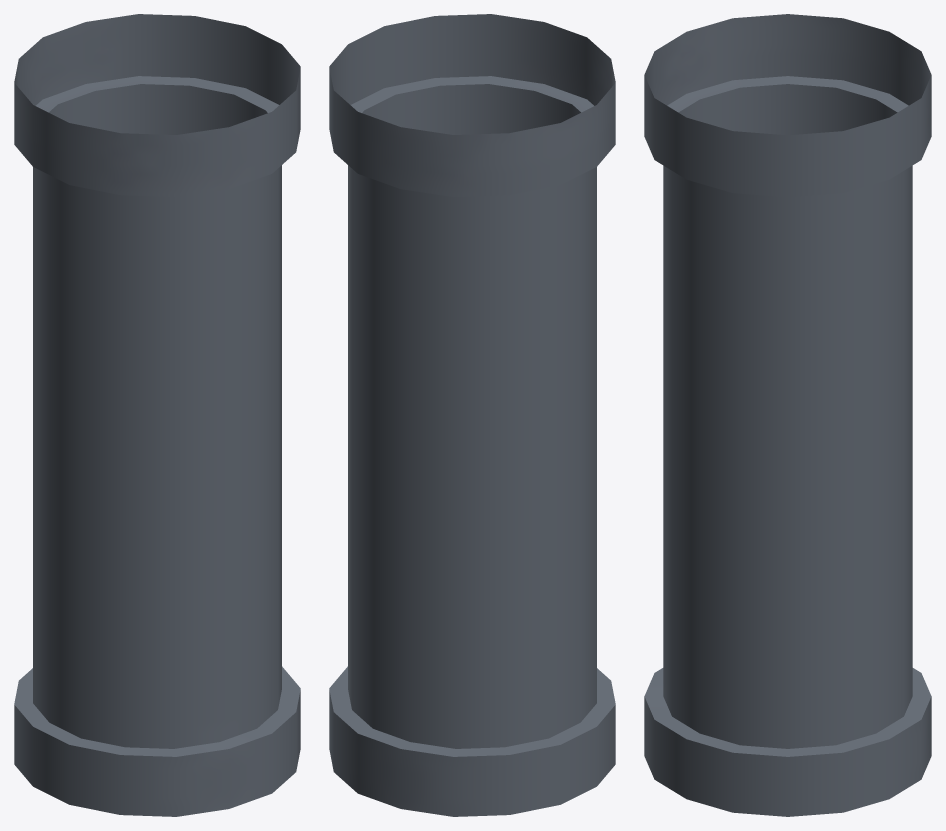
File: Pipe1__2.fbx
The picture shows the model from 3 angles, left to right: view 1: azimuth 30°, elevation 25°; view 2: azimuth 150°, elevation 25°; view 3: azimuth 270°, elevation 25°; orthographic projection.
Visible parts, largest first — view 1: Mat_Pipe_02 1; view 2: Mat_Pipe_02 1; view 3: Mat_Pipe_02 1.
Boxes of the visible parts, bbox=[...] form: Mat_Pipe_02 1: bbox=[14, 14, 300, 816]; Mat_Pipe_02 1: bbox=[329, 14, 615, 816]; Mat_Pipe_02 1: bbox=[644, 14, 931, 816].
Size of the model in its own units: 0.3455 by 0.9049 by 0.3455.
Materials: 1 (1 with a texture image).
